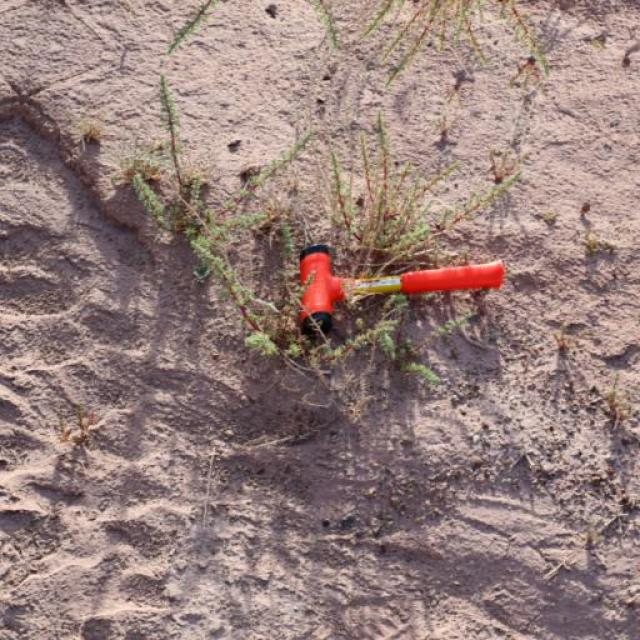mallet: (295, 241, 505, 339)
